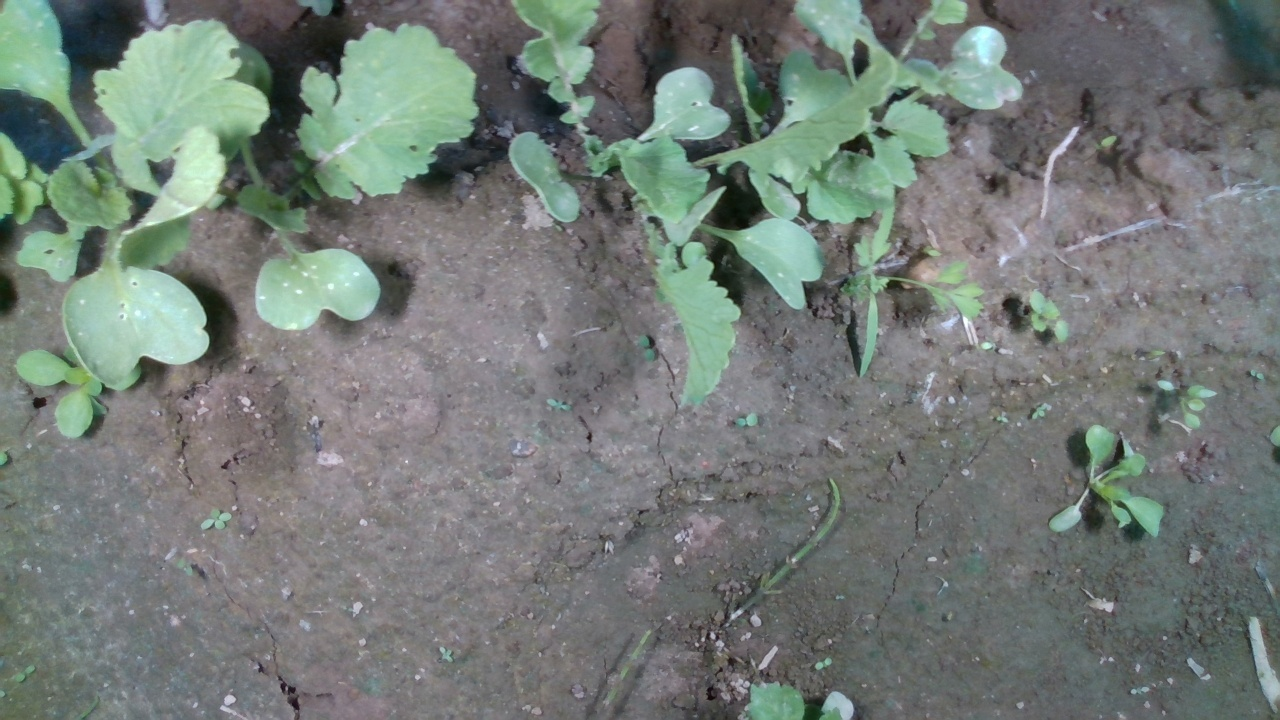weed: (1028, 288, 1070, 343), (197, 507, 232, 530), (638, 335, 655, 362), (545, 396, 572, 413), (732, 411, 758, 428), (14, 663, 36, 683), (1030, 401, 1049, 421), (438, 644, 453, 664), (814, 657, 833, 670), (1249, 369, 1265, 381)
